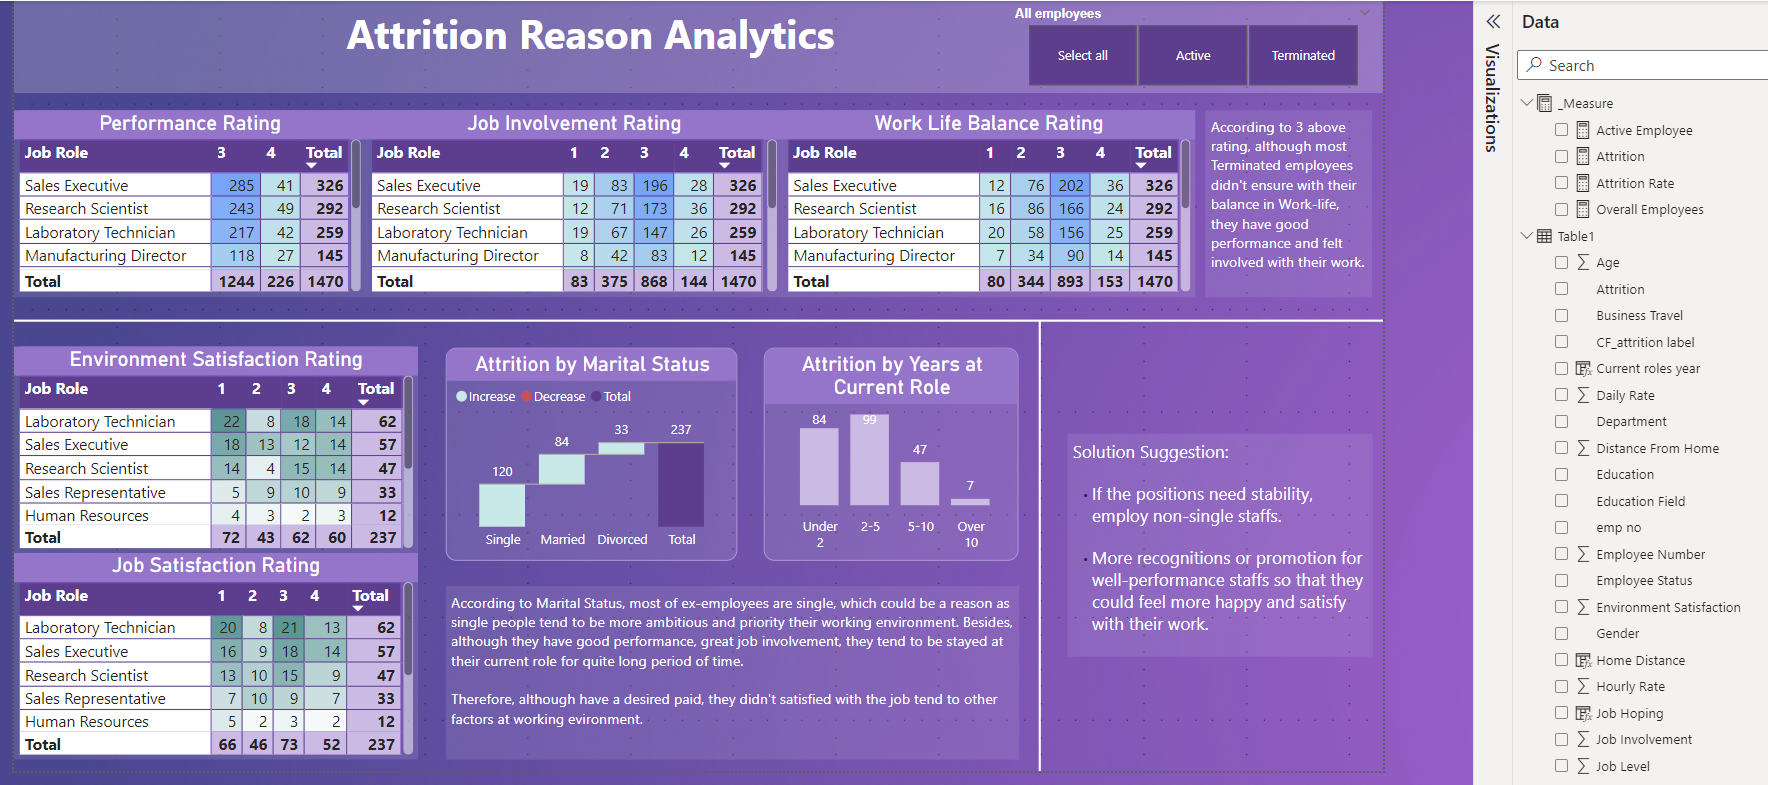

The page's visual inventory and layout, read from the dashboard file:
{"tool":"powerbi","page":{"name":"Attrition Reason Analytics","canvas":[1280,720],"ordinal":2},"visuals":[{"type":"textbox","box":[0,0,923.1,86.2],"z":0},{"type":"slicer","fields":{"Values":["Table1.Employee Status"]},"box":[922.8,0,357.2,85.7],"z":1000},{"type":"pivotTable","title":"Environment Satisfaction Rating","fields":{"Rows":["Table1.Job Role"],"Values":["_Measure.Attrition"],"Columns":["Table1.Environment Satisfaction"]},"box":[0,323.1,377.8,193],"z":5000},{"type":"pivotTable","title":"Job Satisfaction Rating","fields":{"Rows":["Table1.Job Role"],"Values":["_Measure.Attrition"],"Columns":["Table1.Job Satisfaction"]},"box":[0,516.1,377.8,193],"z":6000},{"type":"waterfallChart","fields":{"Y":["_Measure.Attrition"],"Category":["Table1.Marital Status"]},"box":[403.6,324.1,272.5,199.2],"z":7000},{"type":"columnChart","title":"Attrition by Years at Current Role","fields":{"Category":["Table1.Current roles year"],"Y":["_Measure.Attrition"]},"box":[700.9,324.1,238.5,199.2],"z":8000},{"type":"pivotTable","title":"Work Life Balance Rating","fields":{"Rows":["Table1.Job Role"],"Columns":["Table1.Work Life Balance"],"Values":["_Measure.Overall Employees"]},"box":[718.5,102.2,386.1,174.5],"z":8125},{"type":"pivotTable","title":"Performance Rating","fields":{"Rows":["Table1.Job Role"],"Values":["_Measure.Overall Employees"],"Columns":["Table1.Performance Rating"]},"box":[0,102.2,329.3,174.5],"z":8250},{"type":"pivotTable","title":"Job Involvement Rating","fields":{"Rows":["Table1.Job Role"],"Columns":["Table1.Job Involvement"],"Values":["_Measure.Overall Employees"]},"box":[329.3,102.2,389.2,174.5],"z":8500},{"type":"shape","box":[0,287,1280,23.7],"z":8501},{"type":"textbox","box":[403.6,547.1,535.7,162.1],"z":8502},{"type":"textbox","box":[1113.8,102.2,155.9,174.5],"z":8503},{"type":"shape","box":[952.8,299.4,12.4,421.2],"z":8504},{"type":"textbox","box":[984.8,404.6,273.5,167.2],"z":8505}]}

Visuals, with their boxes on the page's 1280x720 design canvas (x1, y1, x2, y2). These are canvas units, not pixel positions in the 1768x785 screenshot, which may show the page scaled, cropped or inside an application window:
textbox: x1=0 y1=0 x2=923 y2=86
slicer - Table1.Employee Status: x1=923 y1=0 x2=1280 y2=86
"Environment Satisfaction Rating" pivotTable: x1=0 y1=323 x2=378 y2=516
"Job Satisfaction Rating" pivotTable: x1=0 y1=516 x2=378 y2=709
waterfallChart - _Measure.Attrition x Table1.Marital Status: x1=404 y1=324 x2=676 y2=523
"Attrition by Years at Current Role" columnChart: x1=701 y1=324 x2=939 y2=523
"Work Life Balance Rating" pivotTable: x1=718 y1=102 x2=1105 y2=277
"Performance Rating" pivotTable: x1=0 y1=102 x2=329 y2=277
"Job Involvement Rating" pivotTable: x1=329 y1=102 x2=718 y2=277
shape: x1=0 y1=287 x2=1280 y2=311
textbox: x1=404 y1=547 x2=939 y2=709
textbox: x1=1114 y1=102 x2=1270 y2=277
shape: x1=953 y1=299 x2=965 y2=721
textbox: x1=985 y1=405 x2=1258 y2=572
